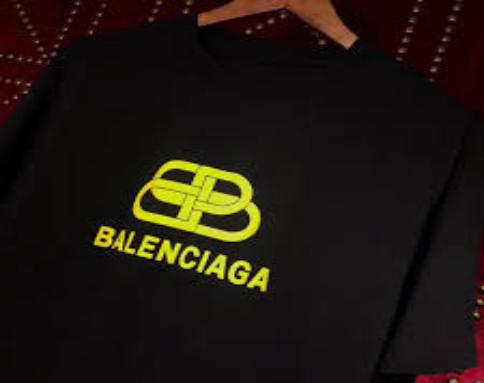BALENCIAGA: (86, 221, 271, 294), (129, 154, 262, 241)
